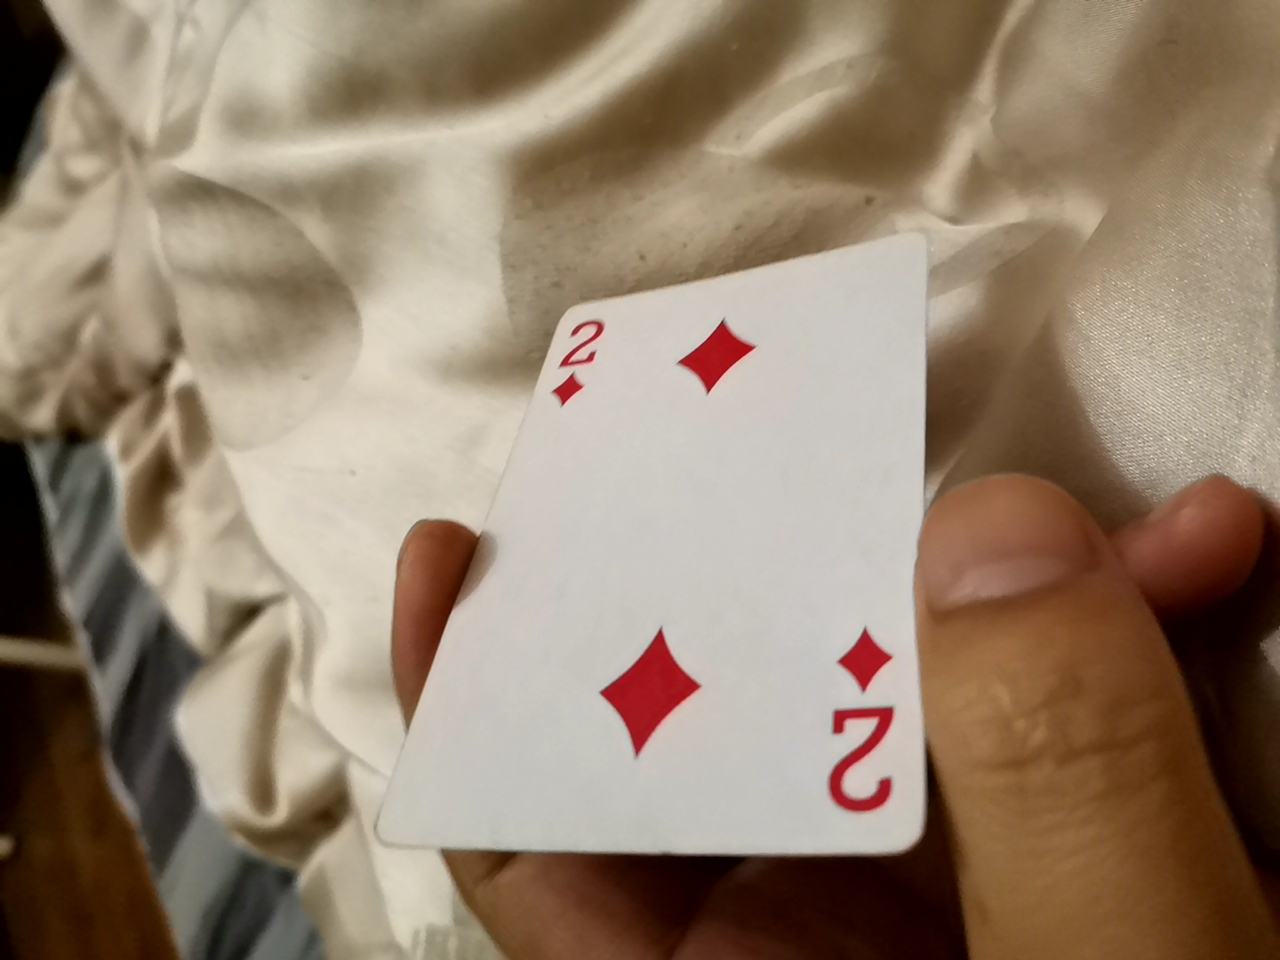fk 2: (342, 201, 948, 908)
